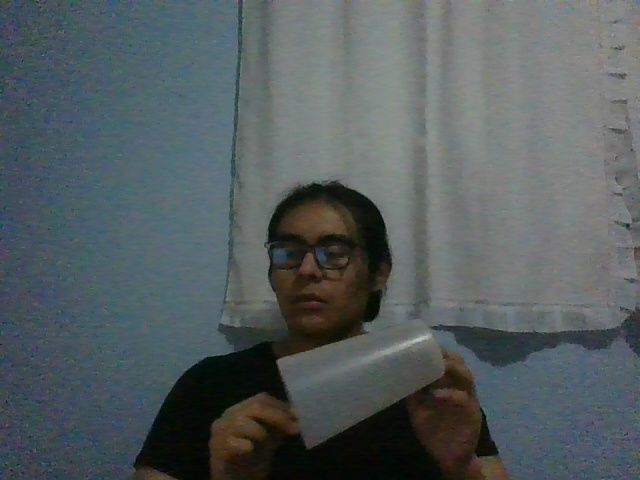vaso: (274, 318, 444, 451)
